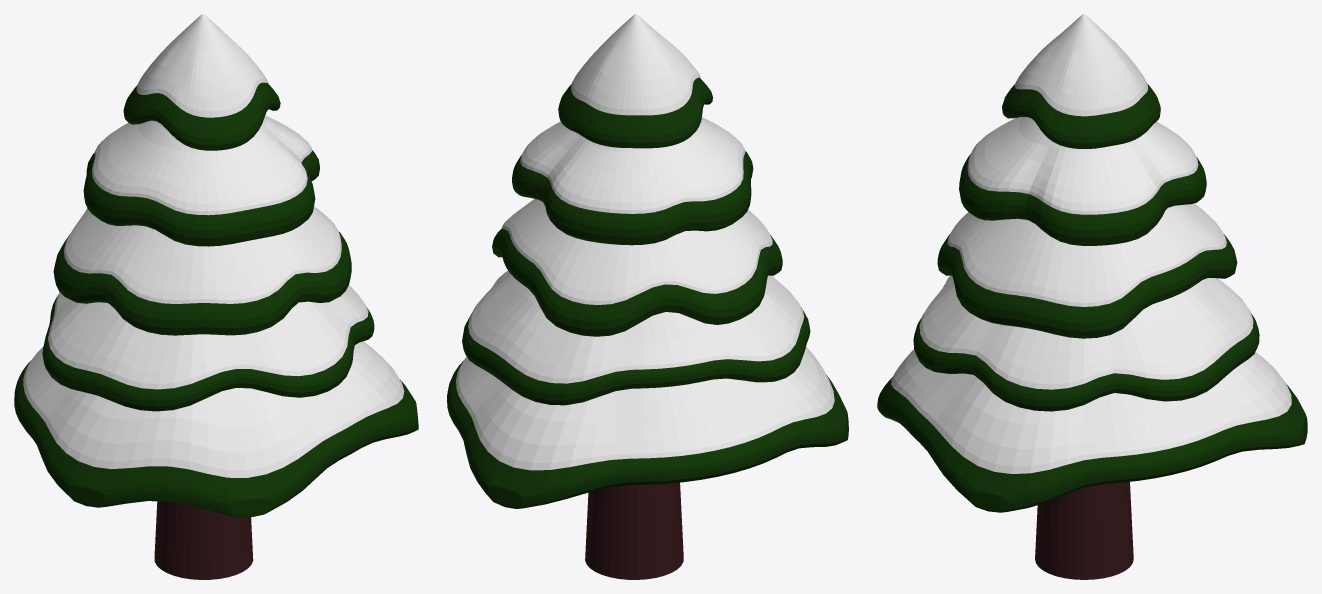
Rendered from tree-1.glb.
The picture shows the model from 3 angles, left to right: view 1: azimuth 30°, elevation 25°; view 2: azimuth 150°, elevation 25°; view 3: azimuth 270°, elevation 25°; orthographic projection.
Visible parts, largest first — view 1: snow.002, leaves.002, trunk.002; view 2: snow.002, leaves.002, trunk.002; view 3: snow.002, leaves.002, trunk.002.
Part boxes in pixels (x1,y1,x2,y2): snow.002: (23, 14, 404, 477); leaves.002: (14, 82, 418, 517); trunk.002: (154, 501, 253, 579); snow.002: (456, 14, 834, 470); leaves.002: (447, 77, 848, 508); trunk.002: (585, 482, 683, 579); snow.002: (891, 14, 1291, 473); leaves.002: (877, 84, 1307, 512); trunk.002: (1035, 481, 1133, 579).
Size of the model in its own units: 1.97 by 2.92 by 2.09.
